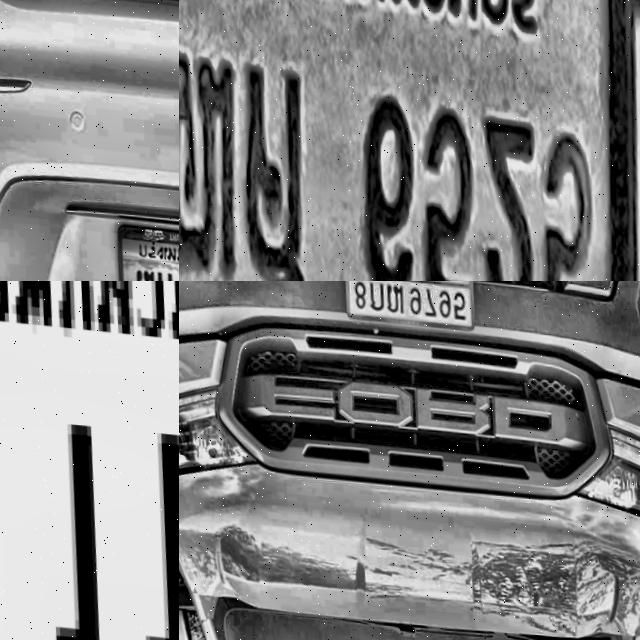license-plate: (179, 0, 640, 281), (0, 281, 179, 640), (339, 281, 475, 330), (109, 216, 179, 281)
